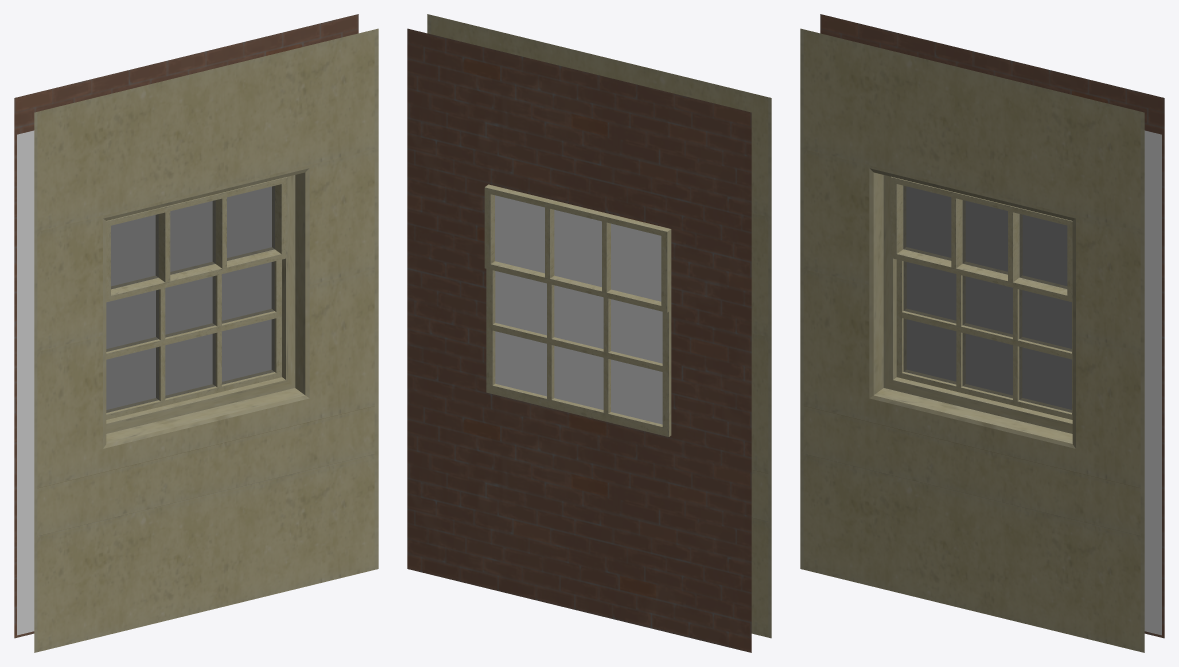
Rendered from trim_window.glb.
The picture shows the model from 3 angles, left to right: view 1: azimuth 30°, elevation 25°; view 2: azimuth 150°, elevation 25°; view 3: azimuth 330°, elevation 25°; orthographic projection.
Parts seen in each view (by area): view 1: Trim_Window; view 2: Trim_Window; view 3: Trim_Window.
Part boxes in pixels (bbox=[...]): Trim_Window: bbox=[14, 14, 378, 652]; Trim_Window: bbox=[407, 14, 771, 652]; Trim_Window: bbox=[800, 14, 1164, 652].
Size of the model in its own units: 2 by 3 by 0.2397.
Materials: 5 (3 with a texture image).
